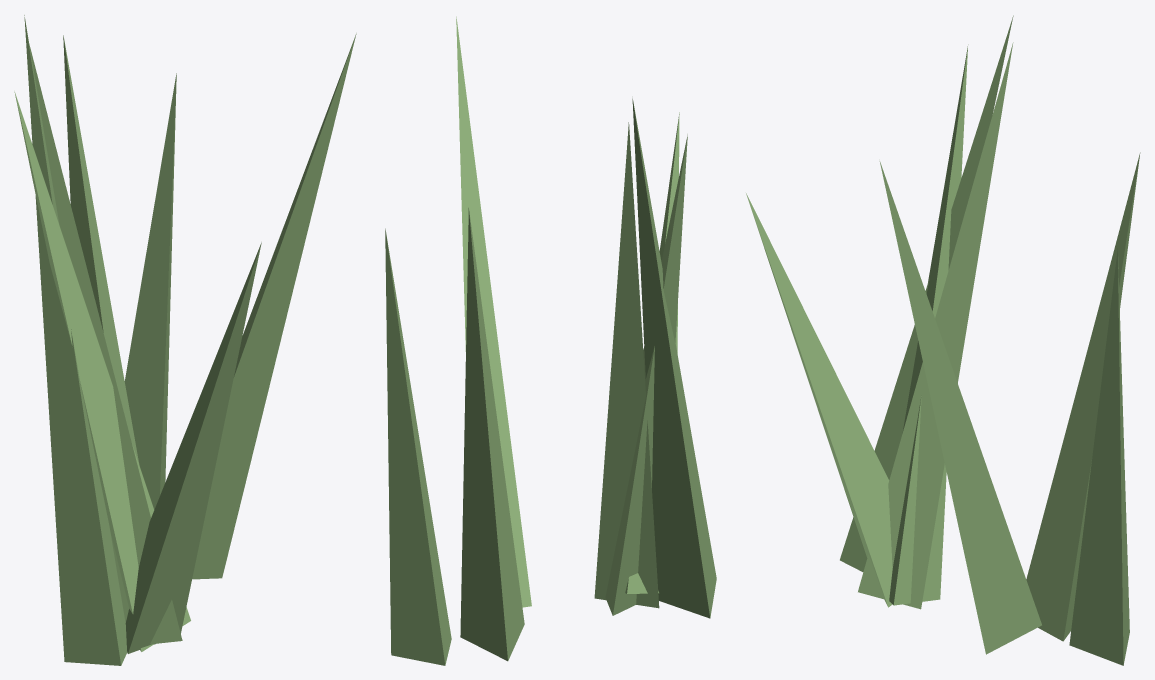
File: grass_tuft.glb
3 renders of one model, left to right at view 1: azimuth 30°, elevation 25°; view 2: azimuth 150°, elevation 25°; view 3: azimuth 270°, elevation 25°, orthographic. The views are drawn at different scales.
Parts seen in each view (by area): view 1: Blade_4, Blade_3, Blade_1, Blade_2, Blade_5, Blade_6, Blade_0; view 2: Blade_4, Blade_0, Blade_5, Blade_6, Blade_3, Blade_2, Blade_1; view 3: Blade_3, Blade_6, Blade_5, Blade_0, Blade_1, Blade_2, Blade_4.
Boxes of the visible parts, left/top/right/bottom form: Blade_4: left=24, top=15, right=127, bottom=665; Blade_3: left=192, top=33, right=356, bottom=579; Blade_1: left=125, top=242, right=261, bottom=653; Blade_2: left=14, top=91, right=190, bottom=651; Blade_5: left=124, top=73, right=176, bottom=509; Blade_6: left=29, top=44, right=182, bottom=644; Blade_0: left=63, top=35, right=139, bottom=464; Blade_4: left=632, top=98, right=716, bottom=618; Blade_0: left=460, top=208, right=524, bottom=661; Blade_5: left=385, top=228, right=451, bottom=665; Blade_6: left=594, top=122, right=659, bottom=608; Blade_3: left=456, top=16, right=531, bottom=607; Blade_2: left=605, top=134, right=687, bottom=615; Blade_1: left=625, top=112, right=679, bottom=593; Blade_3: left=879, top=161, right=1041, bottom=654; Blade_6: left=858, top=42, right=1013, bottom=609; Blade_5: left=1069, top=248, right=1129, bottom=665; Blade_0: left=1026, top=152, right=1140, bottom=641; Blade_1: left=746, top=193, right=892, bottom=607; Blade_2: left=889, top=44, right=968, bottom=605; Blade_4: left=840, top=15, right=1013, bottom=571.
Bounding box in the file's own units: 0.2482 × 0.484 × 0.3086.
